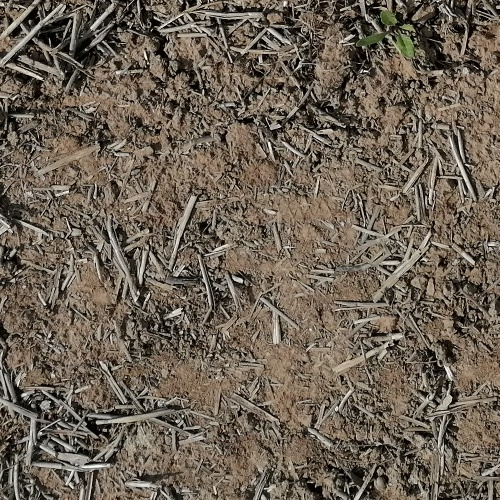beet: (356, 9, 419, 60)
